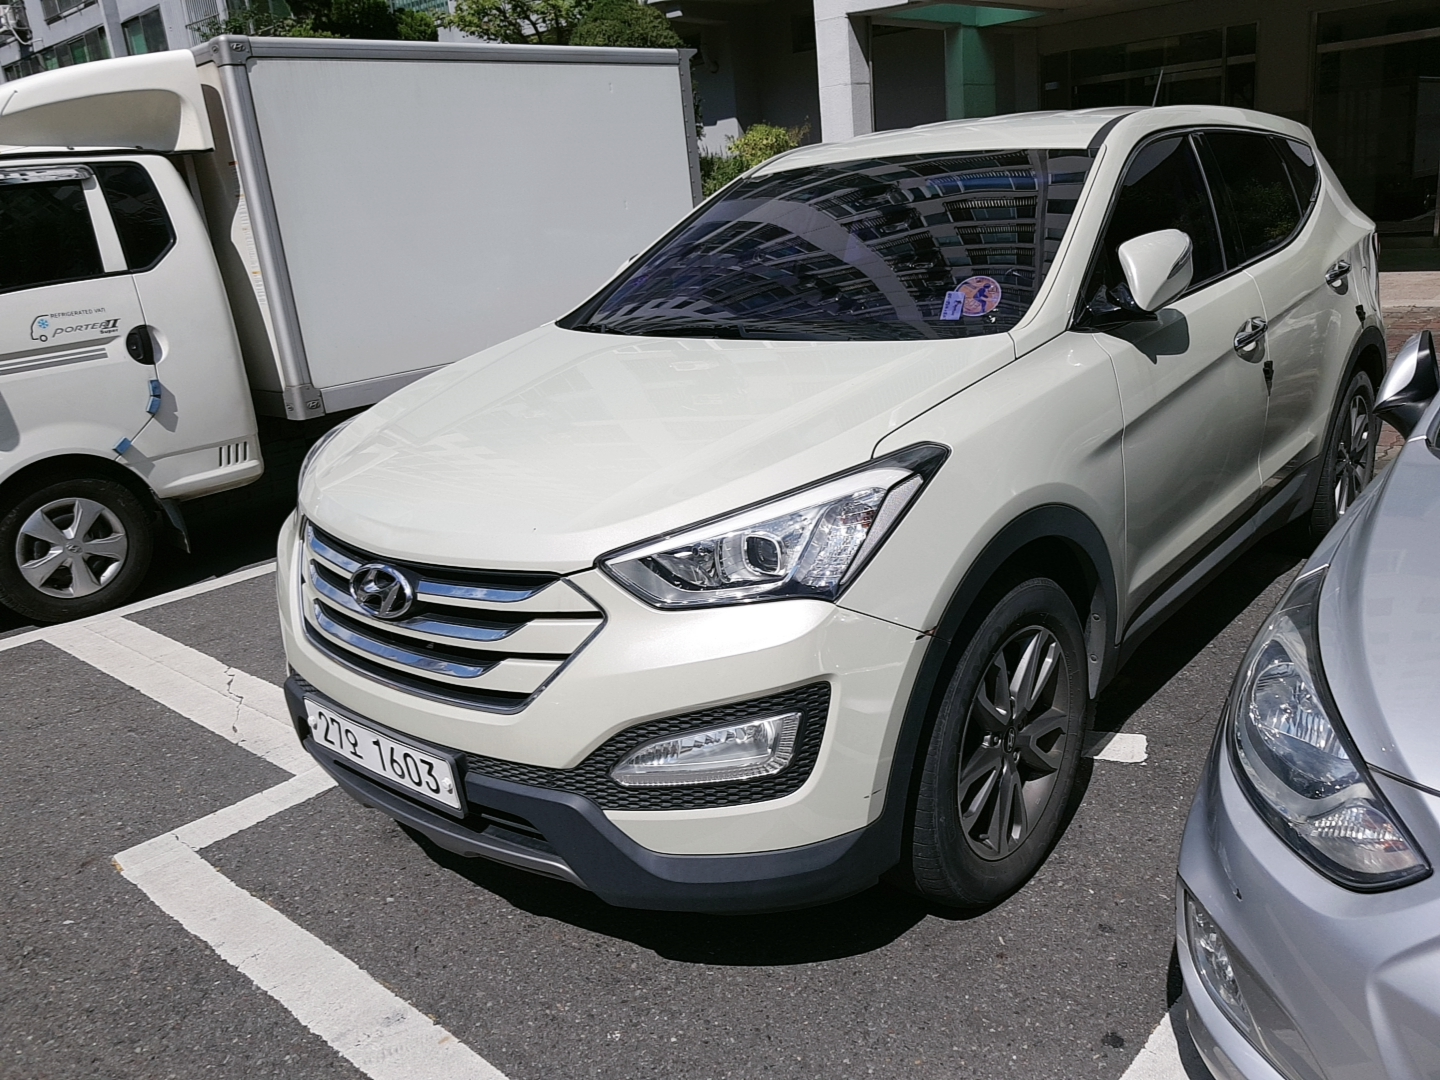disabled_parking: (945, 269, 1010, 317)
etc: (937, 292, 969, 317)
